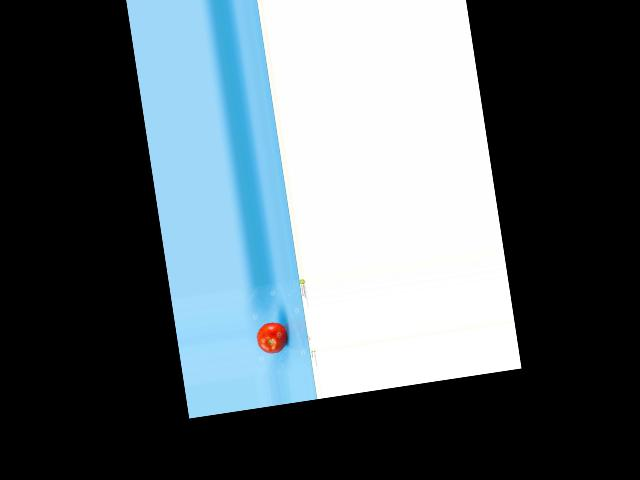tomato: (255, 320, 289, 356)
